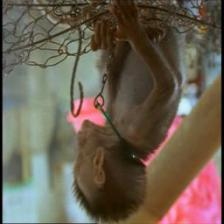monkey: (58, 115, 148, 222)
